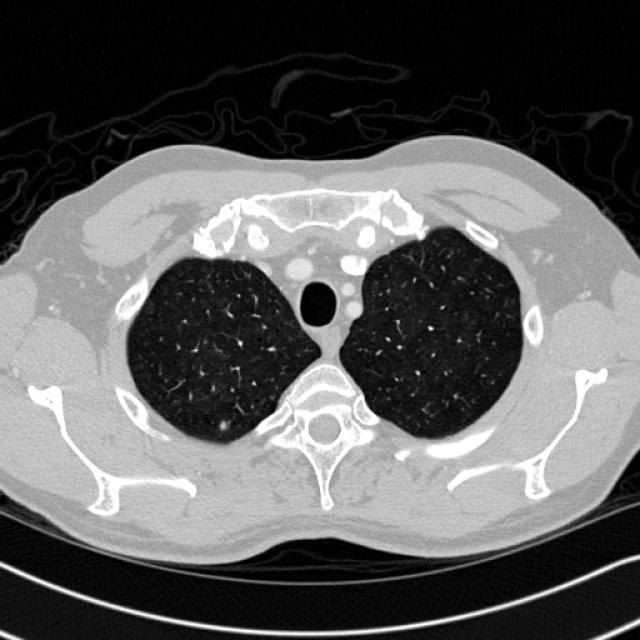nodule: (210, 412, 235, 436)
